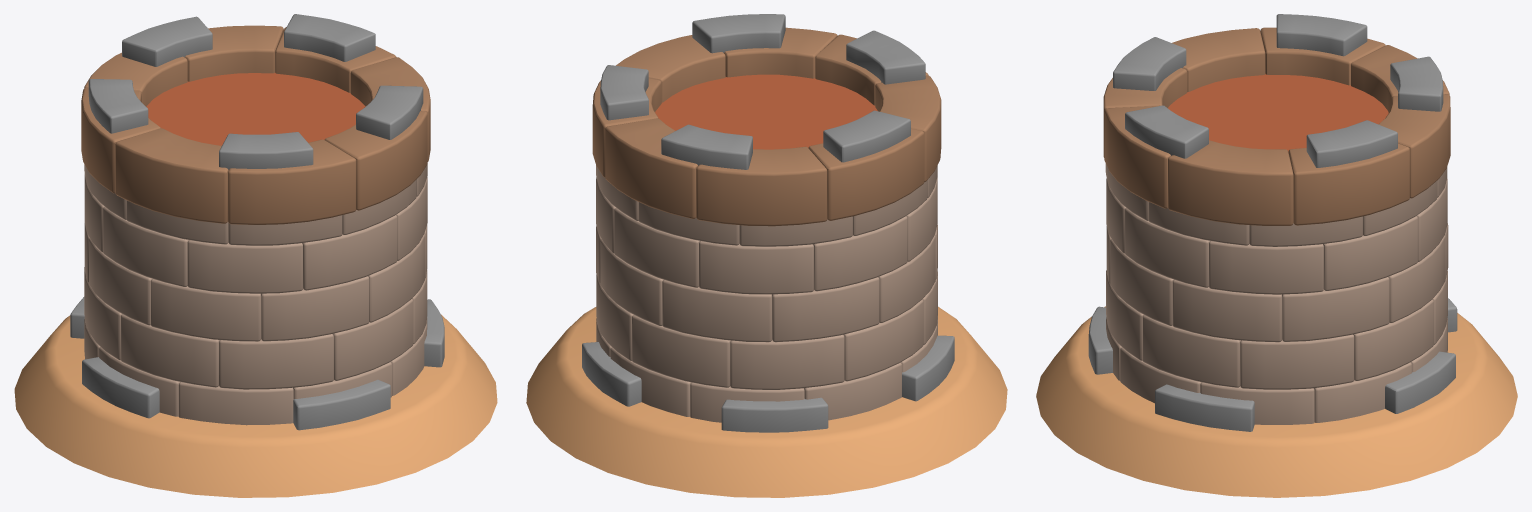
Rendered from tower_MOD_v02.fbx.
The picture shows the model from 3 angles, left to right: view 1: azimuth 30°, elevation 25°; view 2: azimuth 150°, elevation 25°; view 3: azimuth 270°, elevation 25°; orthographic projection.
Visible parts, largest first — view 1: Cercle.003; view 2: Cercle.003; view 3: Cercle.003.
Part boxes in pixels (x1,y1,x2,y2): Cercle.003: (14,14,497,497); Cercle.003: (526,14,1007,497); Cercle.003: (1036,14,1517,497).
Size of the model in its own units: 558 by 399 by 558.
